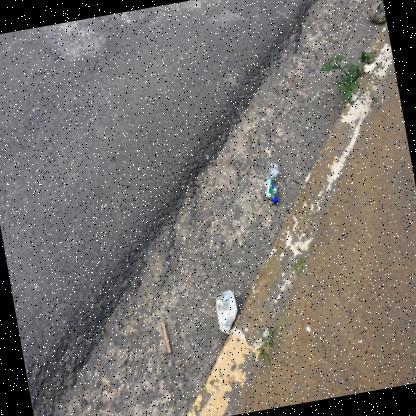Aluminium foil: (216, 289, 237, 334)
Cigarette: (355, 0, 359, 1)
Clear plastic bottle: (263, 162, 280, 203)
Plastic bottle cap: (272, 197, 278, 204)
